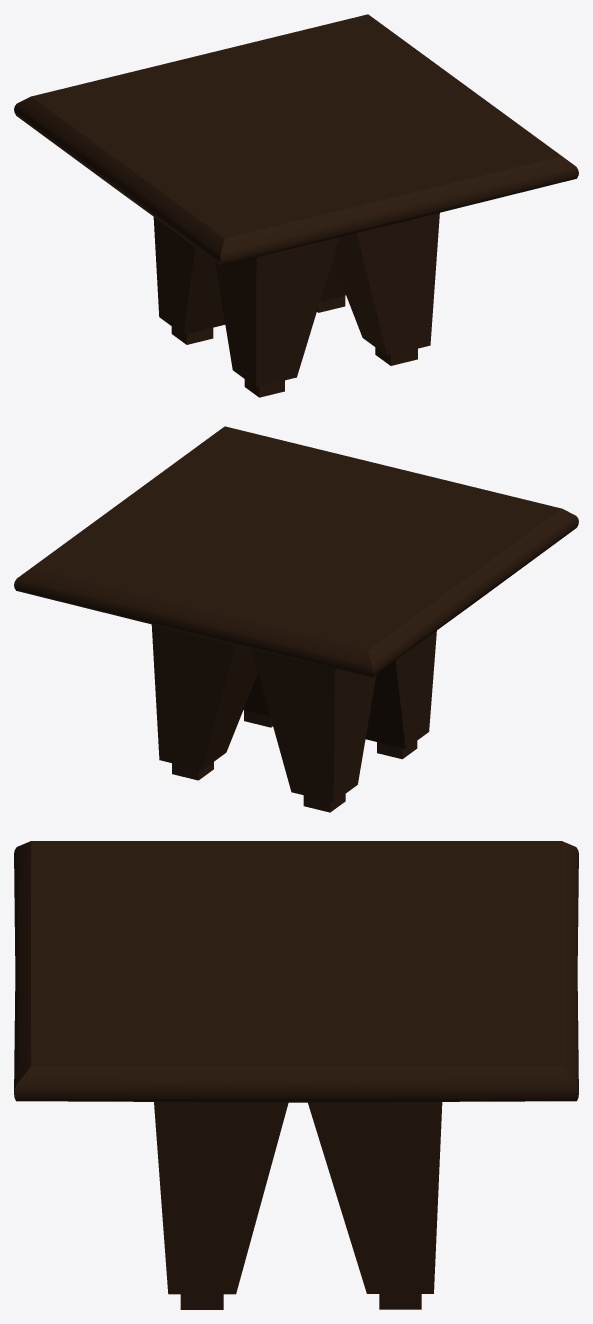
The model's file is CoffeTable.fbx.
3 renders of one model, top to bottom at view 1: azimuth 30°, elevation 25°; view 2: azimuth 150°, elevation 25°; view 3: azimuth 270°, elevation 25°, orthographic. The views are drawn at different scales.
Parts seen in each view (by area): view 1: CoffeeTable; view 2: CoffeeTable; view 3: CoffeeTable.
Boxes of the visible parts, x1,y1,x2,y2 form: CoffeeTable: (14, 14, 578, 397); CoffeeTable: (14, 426, 578, 812); CoffeeTable: (14, 841, 578, 1309).
Size of the model in its own units: 51.52 by 30.39 by 51.33.
